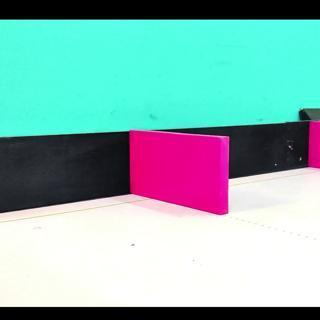xparking: (134, 142, 226, 212), (312, 127, 318, 171)
